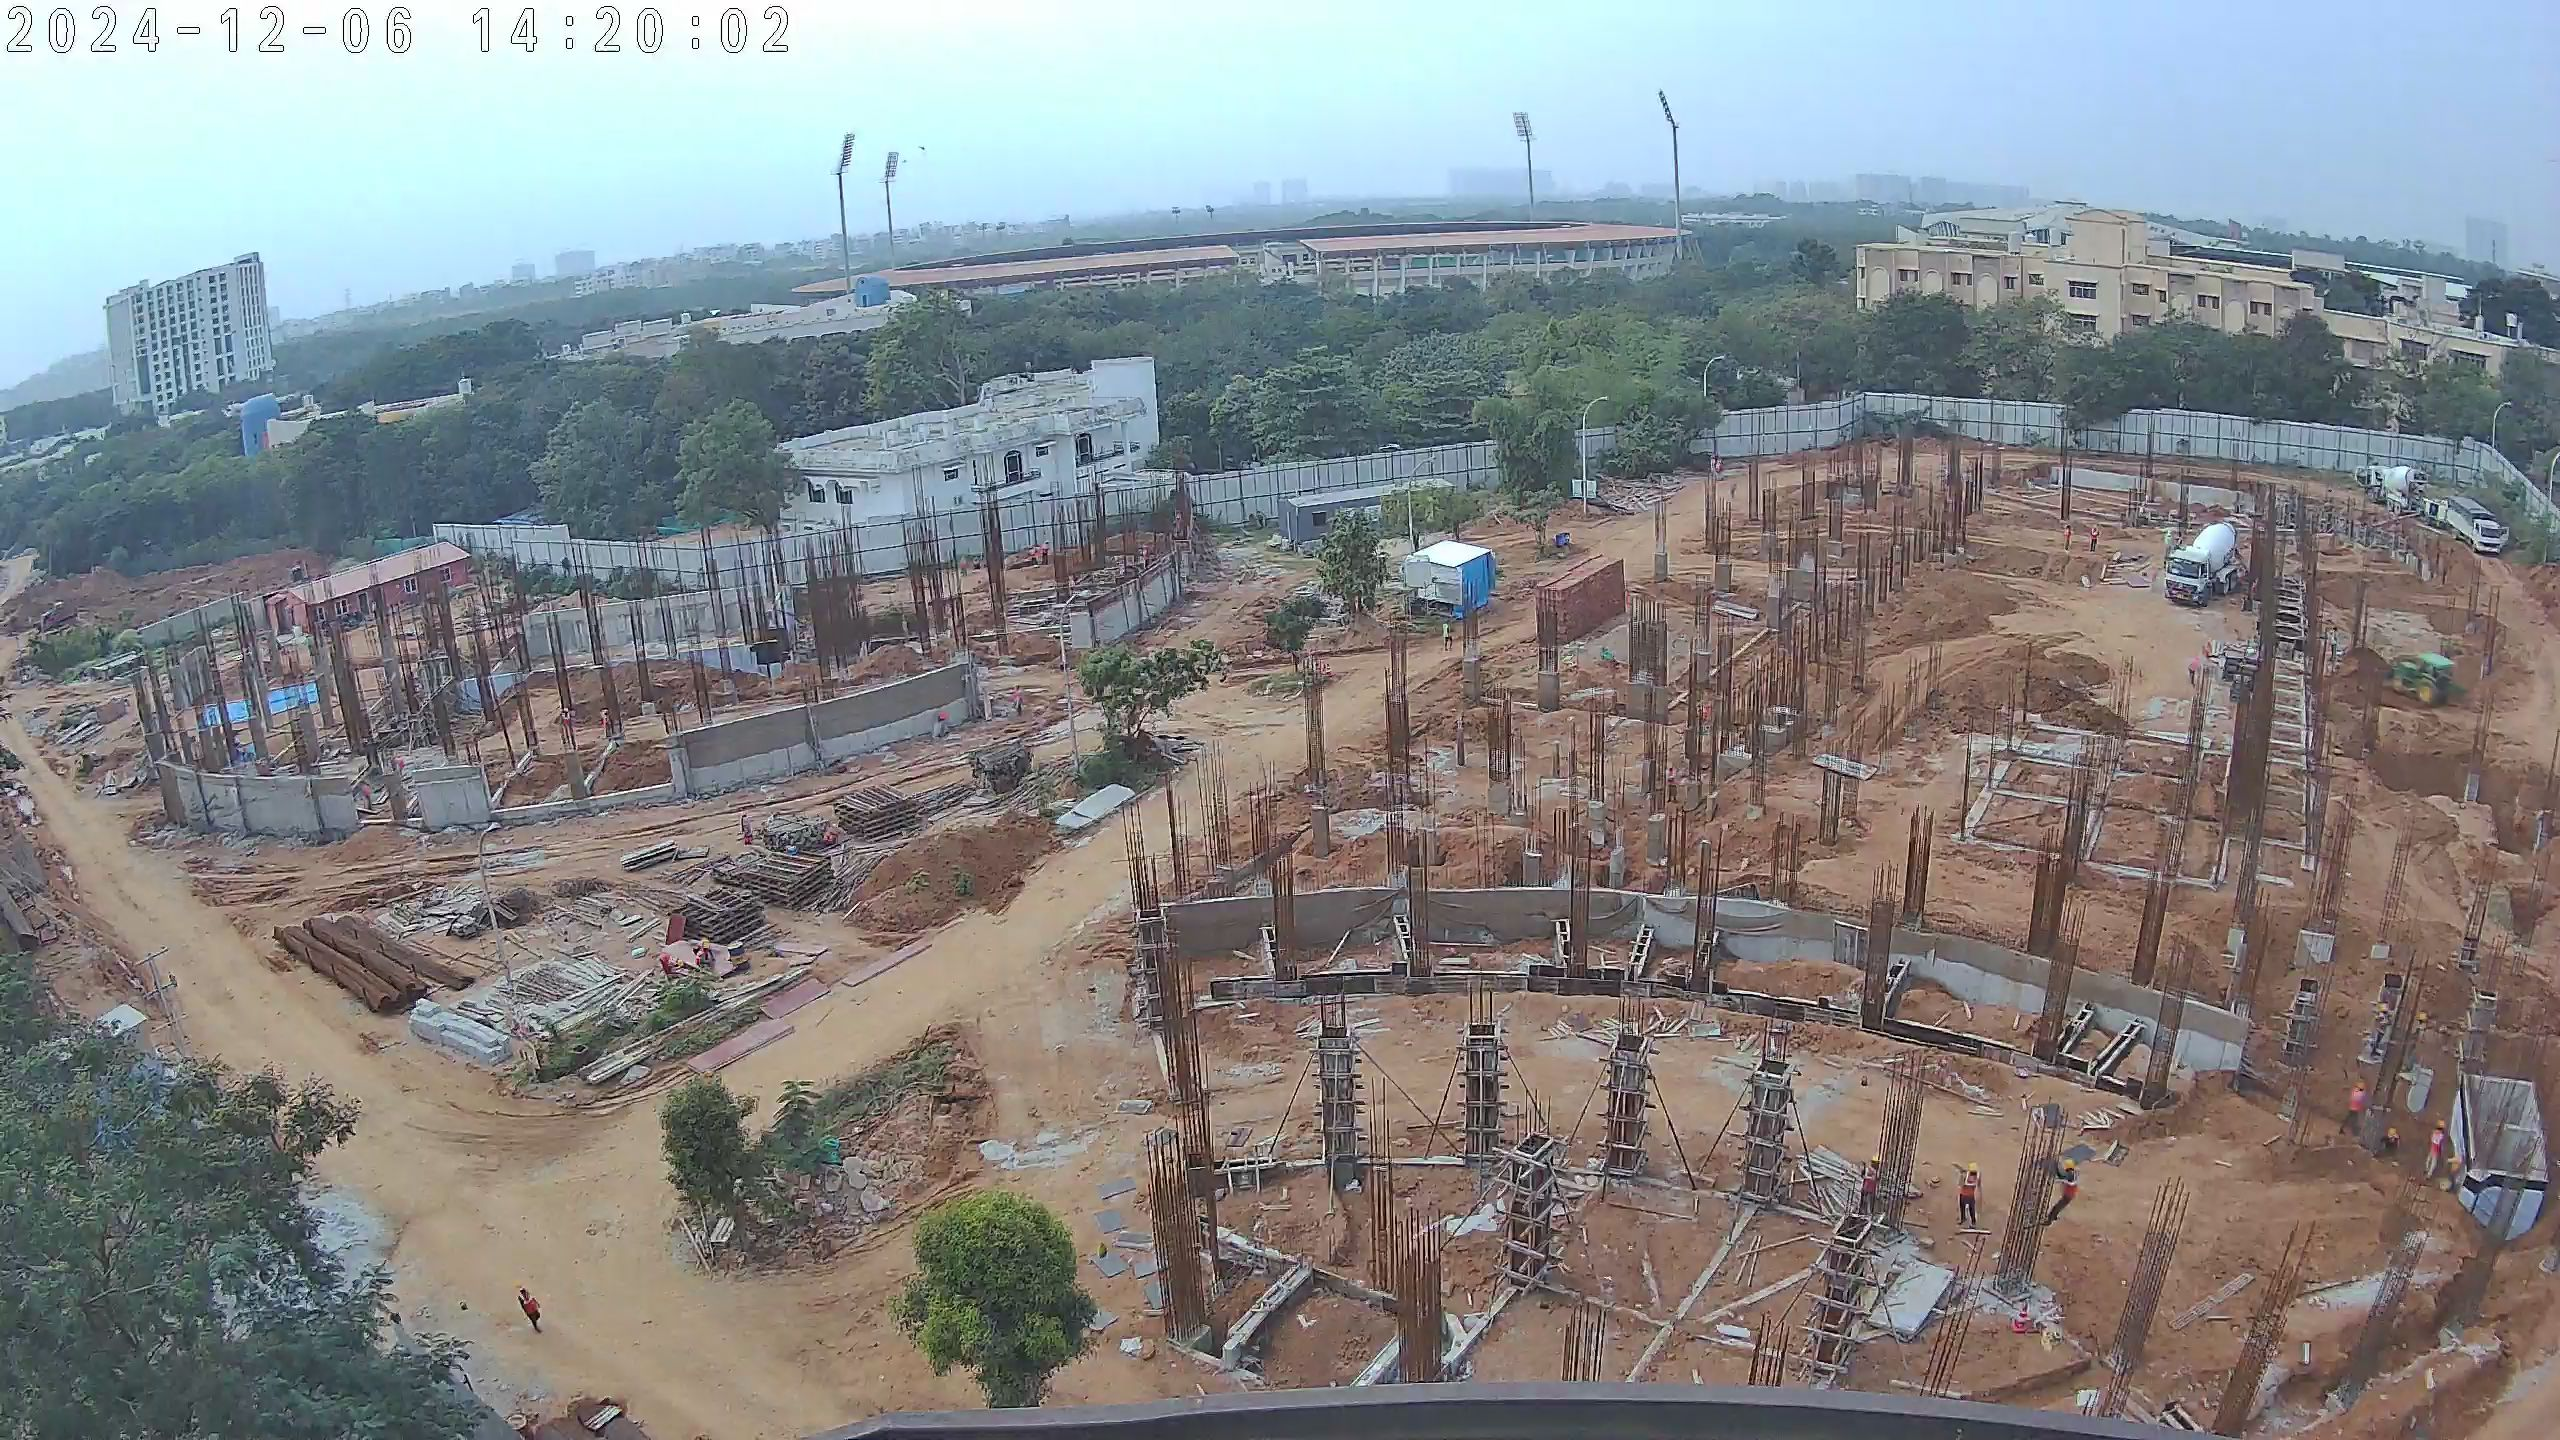bulldozer: (2389, 649, 2457, 709)
truck: (2162, 518, 2245, 604), (2351, 457, 2429, 519), (2439, 497, 2504, 560)
worker: (2039, 1154, 2072, 1229), (1950, 1160, 1983, 1224), (2405, 1006, 2432, 1072), (2416, 1116, 2445, 1177), (510, 1287, 545, 1335), (1849, 1152, 1879, 1206), (2339, 1085, 2368, 1139), (2367, 997, 2391, 1060), (555, 705, 578, 752), (691, 936, 715, 978), (818, 817, 845, 850), (1006, 683, 1027, 722), (595, 703, 613, 747), (2184, 652, 2203, 688), (740, 811, 756, 853), (2061, 521, 2078, 556), (2088, 523, 2102, 555)
